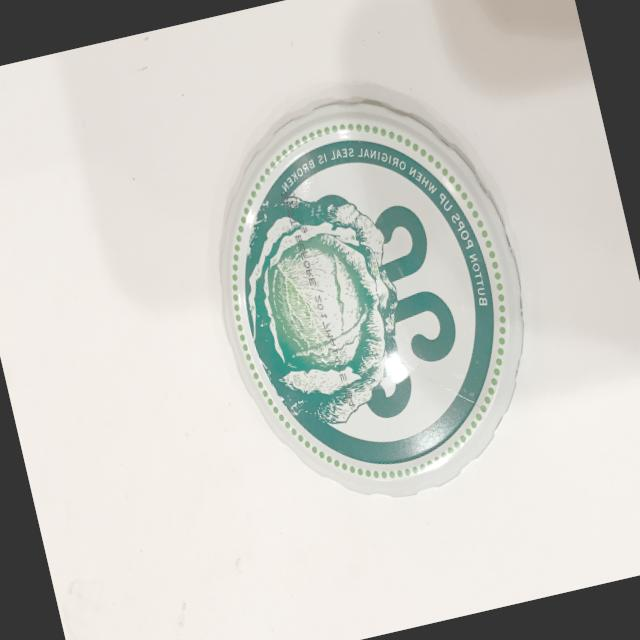Metal: (138, 51, 578, 544)
